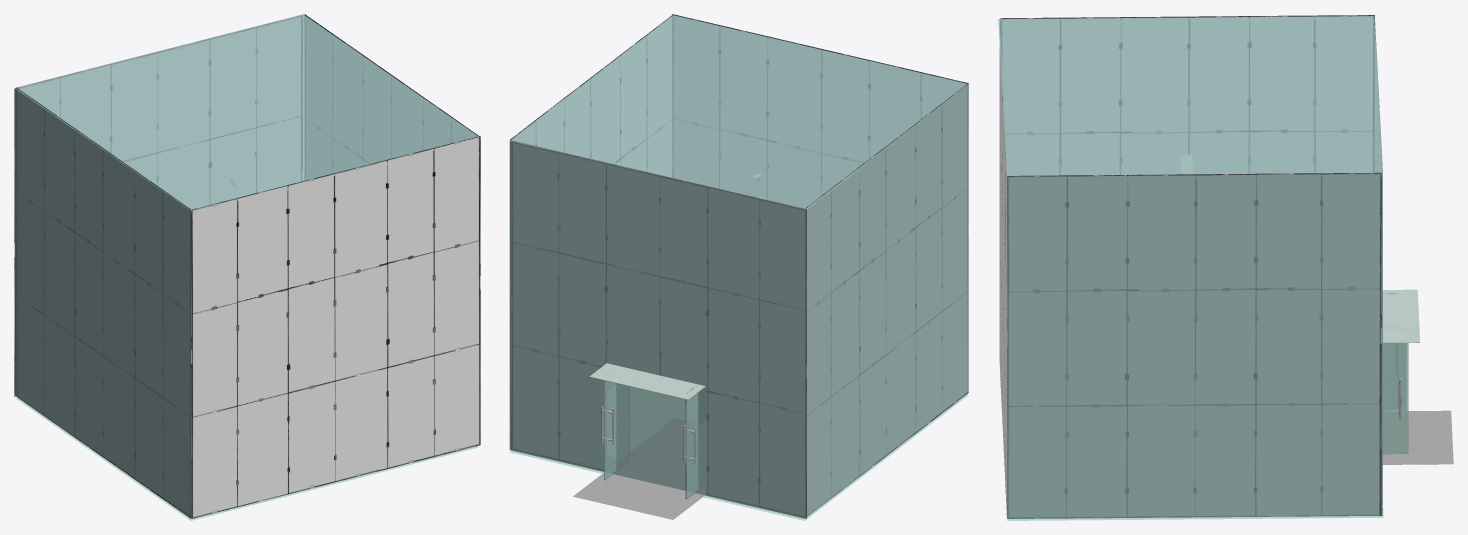
File: AppleStore.fbx
3 views of the same model, side by side, from view 1: azimuth 30°, elevation 25°; view 2: azimuth 150°, elevation 25°; view 3: azimuth 270°, elevation 25° (orthographic). The views are drawn at different scales.
Parts seen in each view (by area): view 1: Model, Component_13_1, Group1; view 2: Model, Component_13_1, Group2, Group1, Component_16_1, Component_7_1; view 3: Model, Component_13_1, Group2, Component_16_1, Component_7_1, Group1.
Part boxes in pixels (x1,y1,x2,y2): Model: (14, 14, 480, 518); Component_13_1: (16, 14, 478, 518); Group1: (16, 397, 478, 520); Model: (509, 14, 969, 518); Component_13_1: (510, 14, 968, 516); Group2: (573, 397, 804, 519); Group1: (509, 387, 968, 520); Component_16_1: (604, 366, 628, 480); Component_7_1: (685, 385, 704, 499); Model: (998, 15, 1420, 518); Component_13_1: (1000, 15, 1381, 518); Group2: (999, 362, 1453, 515); Component_16_1: (1383, 337, 1408, 454); Component_7_1: (1383, 293, 1405, 409); Group1: (1007, 504, 1383, 520).
Bounding box in the file's own units: 7.75 × 7.67 × 9.17.
